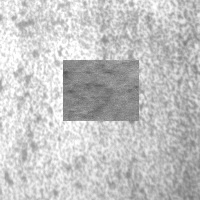pitted_surface: (5, 13, 149, 188), (141, 1, 197, 199)
rolled-in_scale: (63, 60, 139, 121)
